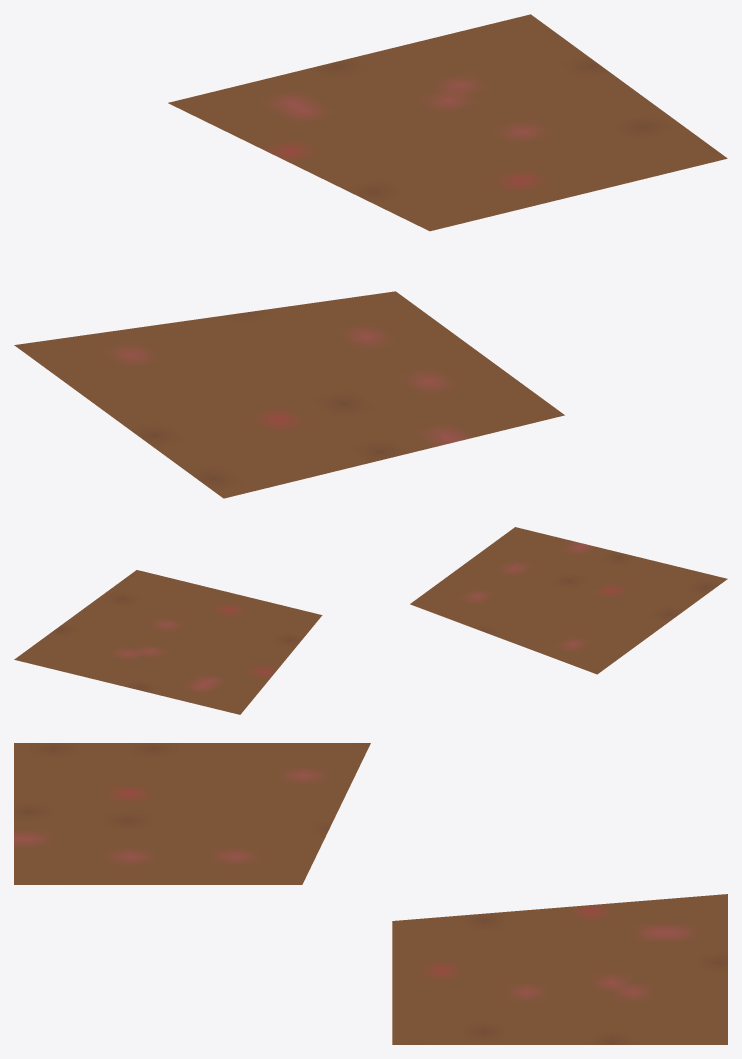
Rendered from canion_inner_corner_v02.fbx.
3 renders of one model, top to bottom at view 1: azimuth 30°, elevation 25°; view 2: azimuth 150°, elevation 25°; view 3: azimuth 270°, elevation 25°, orthographic. The views are drawn at different scales.
Parts seen in each view (by area): view 1: canion_inner_corner_v02; view 2: canion_inner_corner_v02; view 3: canion_inner_corner_v02.
Boxes of the visible parts, bbox=[...] form: canion_inner_corner_v02: bbox=[14, 14, 727, 498]; canion_inner_corner_v02: bbox=[14, 527, 727, 714]; canion_inner_corner_v02: bbox=[14, 743, 727, 1044].
Bounding box in the file's own units: 400 × 0 × 400.
